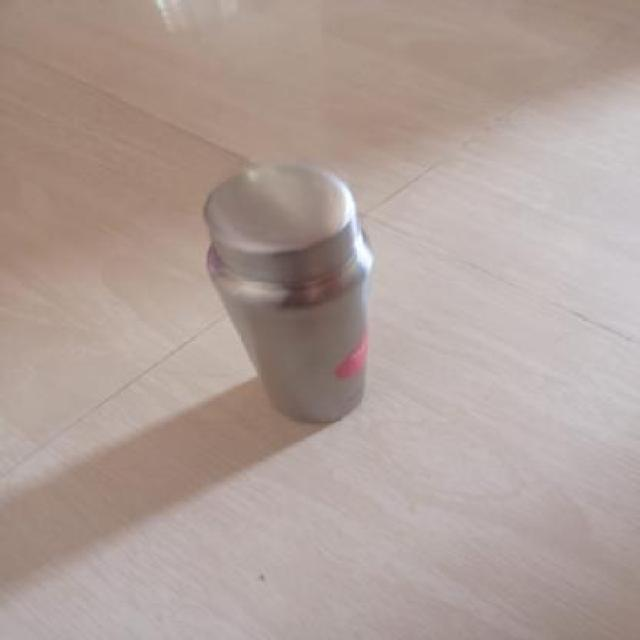bottle: (177, 157, 414, 432)
